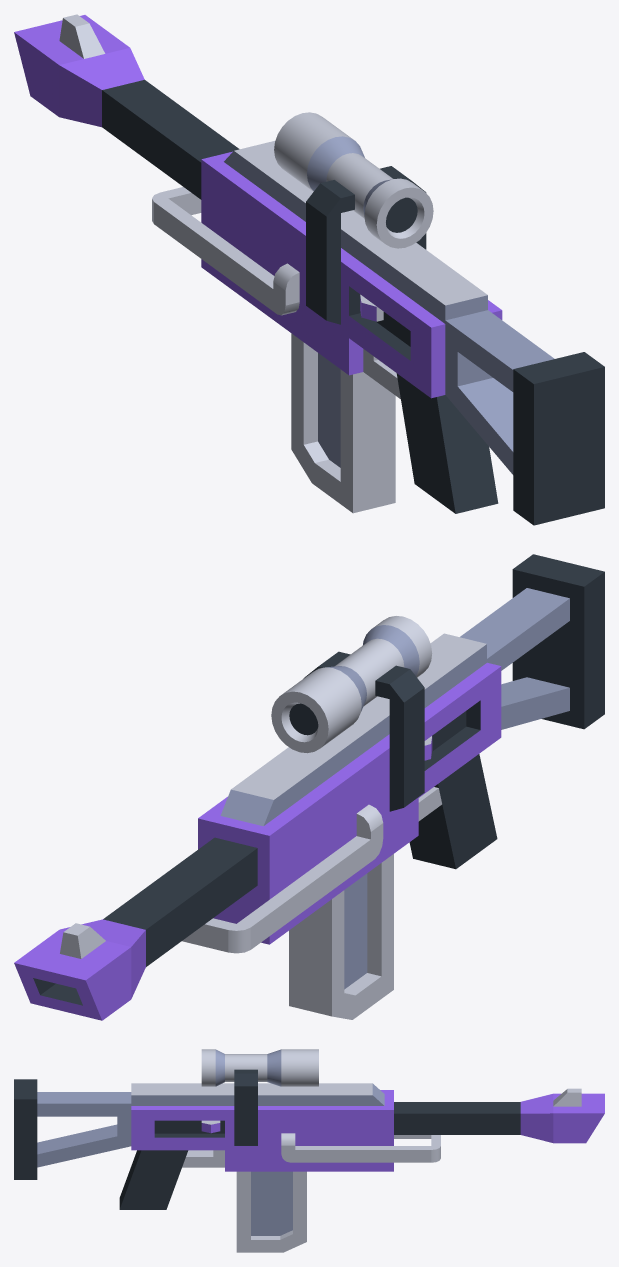
The model's file is blasterF.dae.
3 renders of one model, top to bottom at view 1: azimuth 30°, elevation 25°; view 2: azimuth 150°, elevation 25°; view 3: azimuth 270°, elevation 25°, orthographic. The views are drawn at different scales.
Parts seen in each view (by area): view 1: blasterF; view 2: blasterF; view 3: blasterF.
Part boxes in pixels (<box>): blasterF: <box>14,14,604,525</box>; blasterF: <box>14,554,604,1020</box>; blasterF: <box>14,1049,604,1252</box>.
Bounding box in the file's own units: 0.14 × 0.46 × 1.26.
